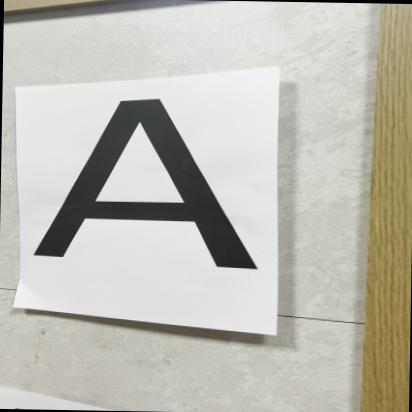seat: (31, 92, 259, 274)
